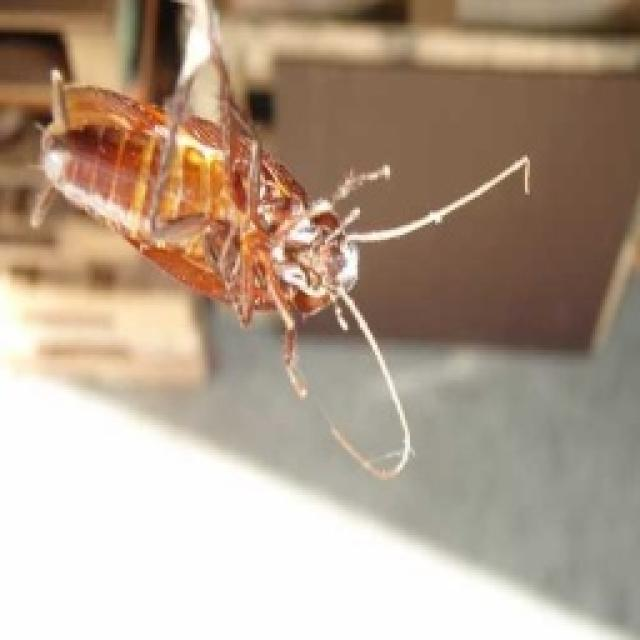cockroach: (34, 74, 363, 325)
